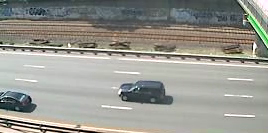car: (116, 79, 169, 106), (1, 87, 35, 112)
